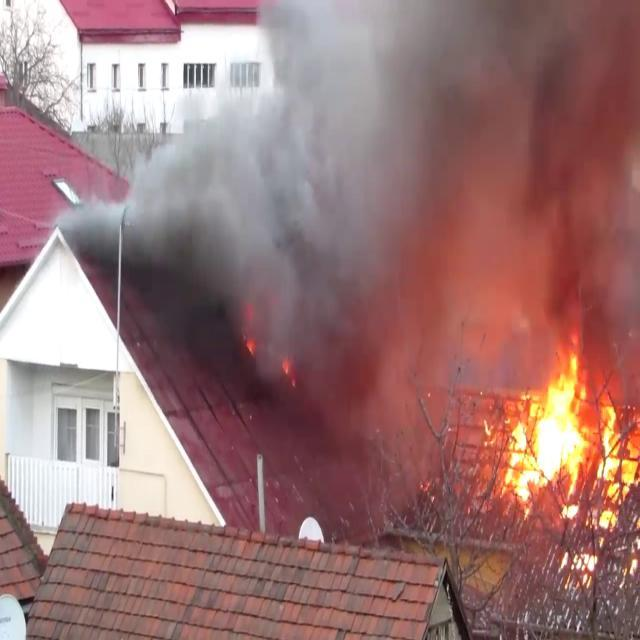Fire: (492, 352, 640, 582)
Smoke: (99, 0, 639, 381)
